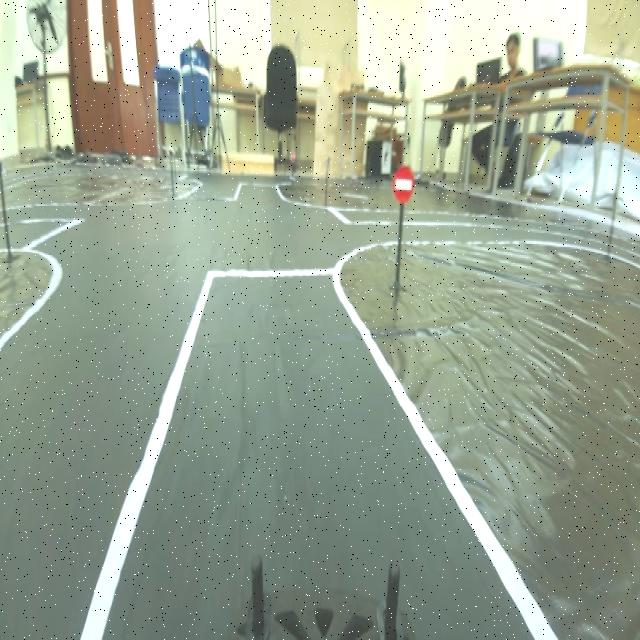no_entry: (388, 159, 418, 212)
